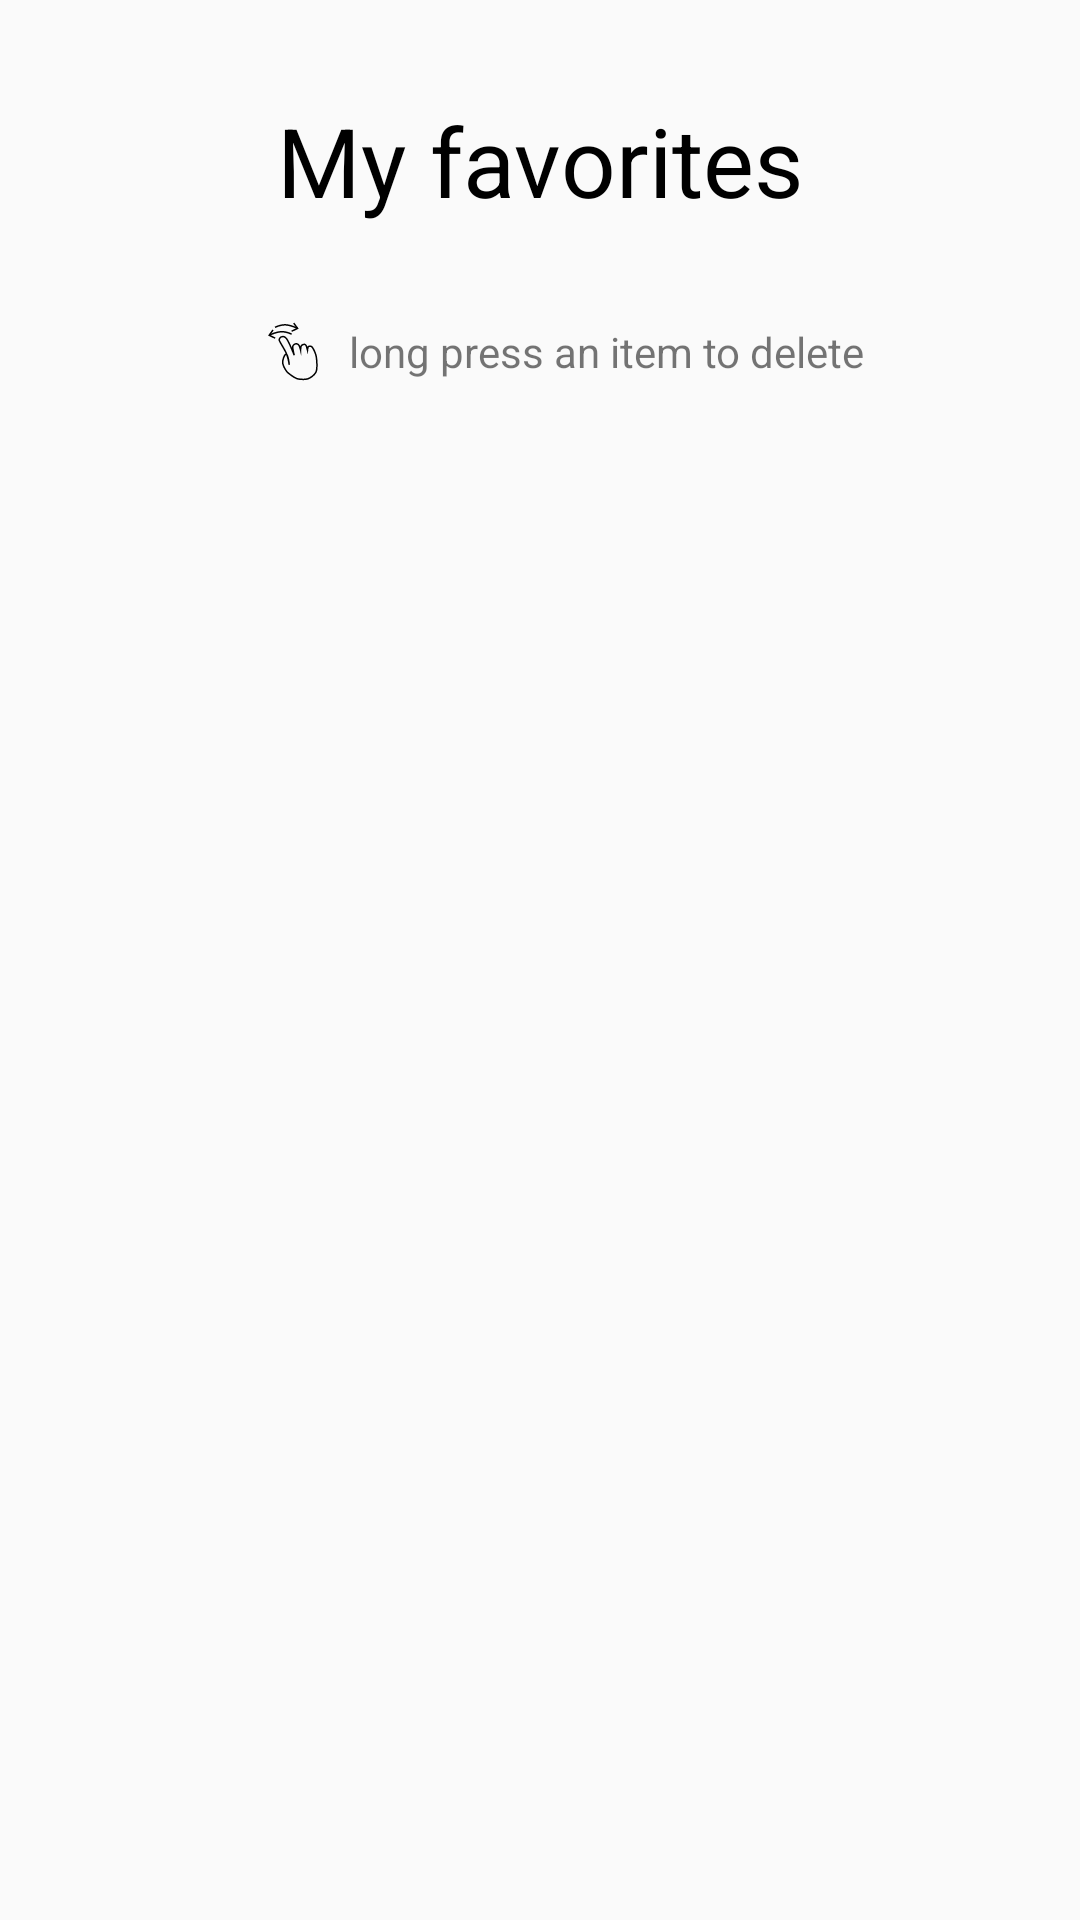

Icons on this 1080x1920 Android screen, each with the point to tap as point (x, y):
swipe: point (293, 351)
